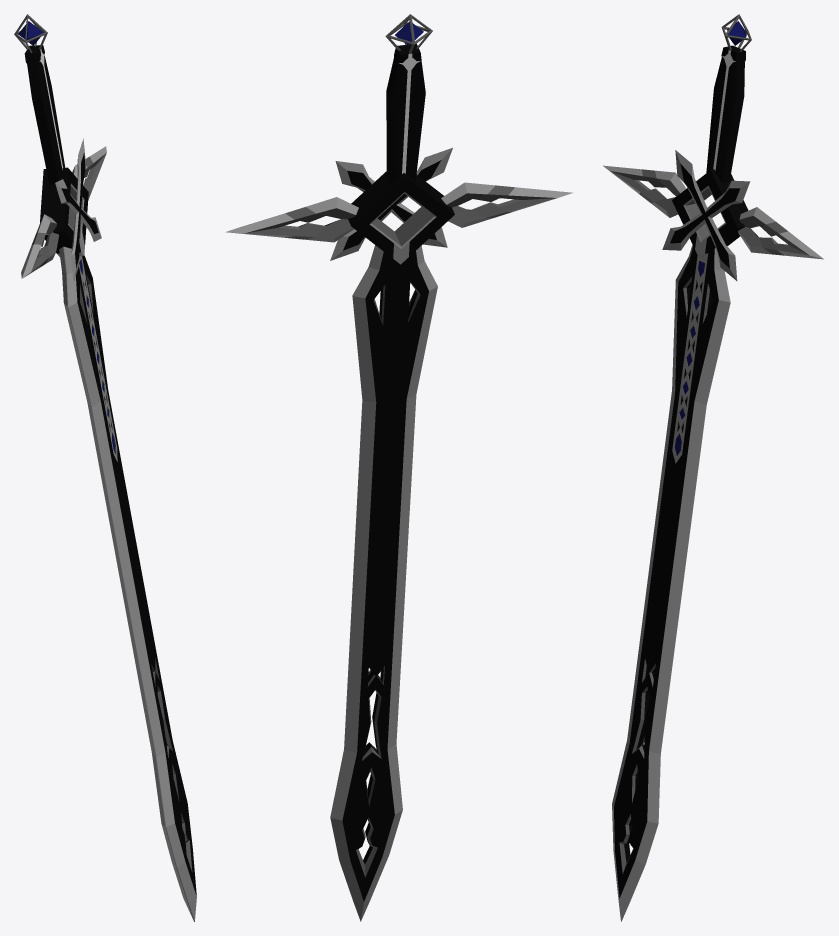
Rendered from weponecamo_1.glb.
The picture shows the model from 3 angles, left to right: view 1: azimuth 30°, elevation 25°; view 2: azimuth 150°, elevation 25°; view 3: azimuth 270°, elevation 25°; orthographic projection. The views are drawn at different scales.
Visible parts, largest first — view 1: sword; view 2: sword; view 3: sword.
Boxes of the visible parts, left/top/right/bottom form: sword: left=14, top=14, right=196, bottom=921; sword: left=225, top=14, right=573, bottom=921; sword: left=603, top=14, right=823, bottom=921.
Size of the model in its own units: 3.22 by 13.74 by 3.22.
